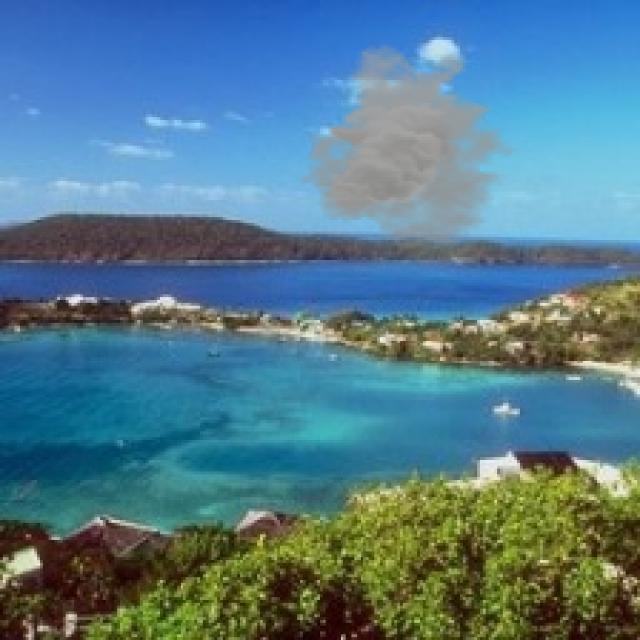Smoke: (297, 42, 526, 252)
